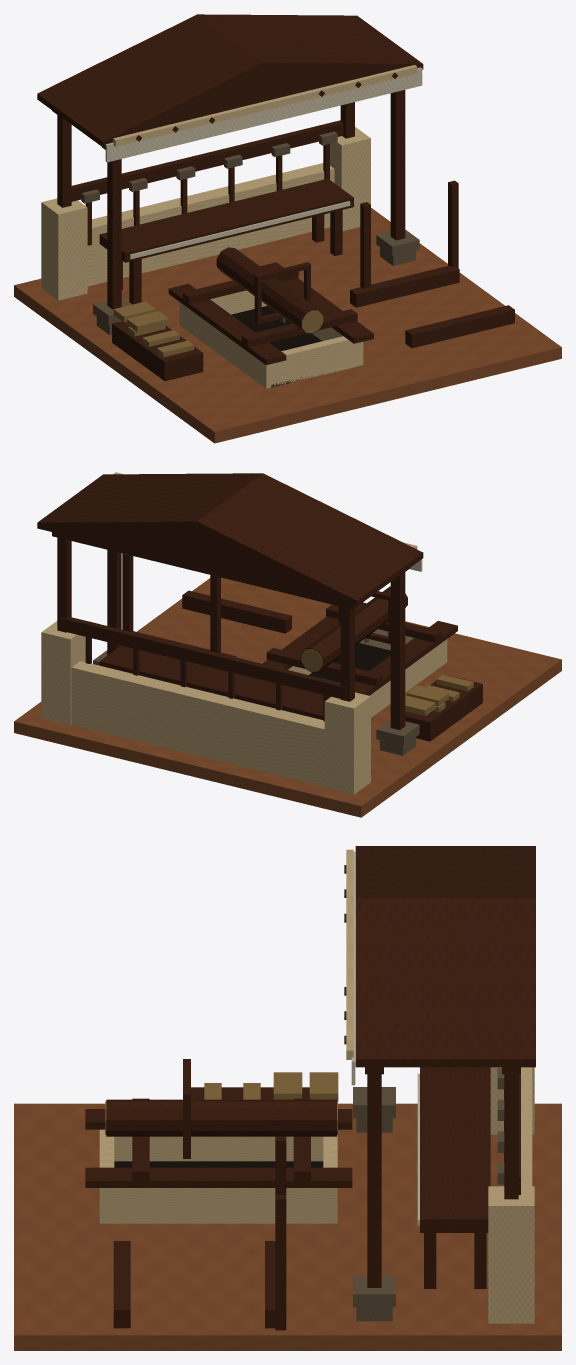
Rendered from Berber_Lumber_Age4_ResourceEmpty.fbx.
The picture shows the model from 3 angles, top to bottom: view 1: azimuth 30°, elevation 25°; view 2: azimuth 150°, elevation 25°; view 3: azimuth 270°, elevation 25°; orthographic projection. The views are drawn at different scales.
Parts seen in each view (by area): view 1: yard_foundation, covered_tool_roof, rear_low_masonry, tool_bench_top, owner_front_roof_valance, shelter_stone_pier, tool_rack_backrail, carved_front_fascia, shelter_stone_pier.001, sawpit_work_log, pit_end, offcut_sorting_bin (+19 smaller); view 2: covered_tool_roof, yard_foundation, rear_low_masonry, tool_bench_top, tool_rack_backrail, shelter_stone_pier, shelter_stone_pier.001, shelter_post, sawpit_work_log, stack_dunnage, offcut_sorting_bin, pit_side (+14 smaller); view 3: yard_foundation, covered_tool_roof, tool_bench_top, sawpit_work_log, pit_side.001, shelter_stone_pier.001, pit_rim_plank.001, pit_side, shelter_post.002, shelter_post.003, carved_front_fascia, stack_retaining_post.001 (+17 smaller).
Part boxes in pixels (x1,y1,x2,y2): yard_foundation: (14,208,561,443); covered_tool_roof: (37,14,423,147); rear_low_masonry: (87,163,334,286); tool_bench_top: (99,178,353,262); owner_front_roof_valance: (105,67,422,162); shelter_stone_pier: (41,198,87,300); tool_rack_backrail: (71,120,343,201); carved_front_fascia: (113,65,417,146); shelter_stone_pier.001: (330,127,370,230); sawpit_work_log: (216,247,323,333); pit_end: (275,336,353,385); offcut_sorting_bin: (112,321,203,381); covered_tool_roof: (37,473,423,606); yard_foundation: (14,577,561,817); rear_low_masonry: (71,661,324,786); tool_bench_top: (99,645,330,719); tool_rack_backrail: (60,617,346,699); shelter_stone_pier: (324,692,370,794); shelter_stone_pier.001: (41,621,85,725); shelter_post: (390,572,405,729); sawpit_work_log: (300,586,407,672); stack_dunnage: (182,590,291,633); offcut_sorting_bin: (405,674,482,741); pit_side: (369,639,447,717); yard_foundation: (14,1103,561,1350); covered_tool_roof: (355,846,535,1067); tool_bench_top: (420,1067,490,1232); sawpit_work_log: (106,1099,336,1136); pit_side.001: (99,1188,337,1223); shelter_stone_pier.001: (488,1186,534,1323); pit_rim_plank.001: (85,1167,352,1187); pit_side: (114,1136,323,1161); shelter_post.002: (367,1074,381,1287); shelter_post.003: (504,1074,518,1199); carved_front_fascia: (346,849,353,1059); stack_retaining_post.001: (275,1195,286,1330).
Size of the model in its own units: 380 by 258 by 380.
7 materials, 7 textured.
